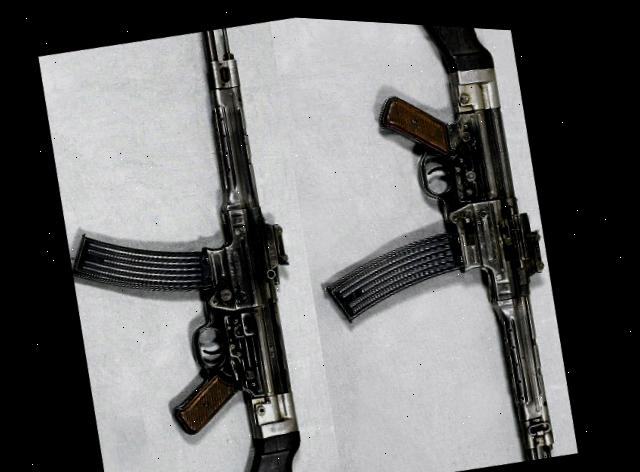rifle: (21, 8, 364, 472), (258, 13, 599, 472)
